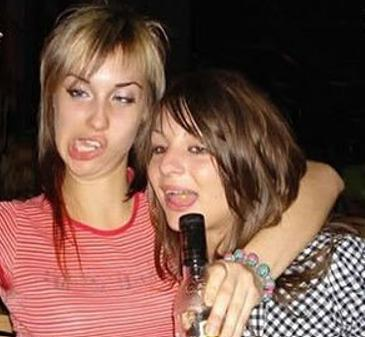Drunk: (57, 55, 141, 169), (150, 111, 223, 227)
